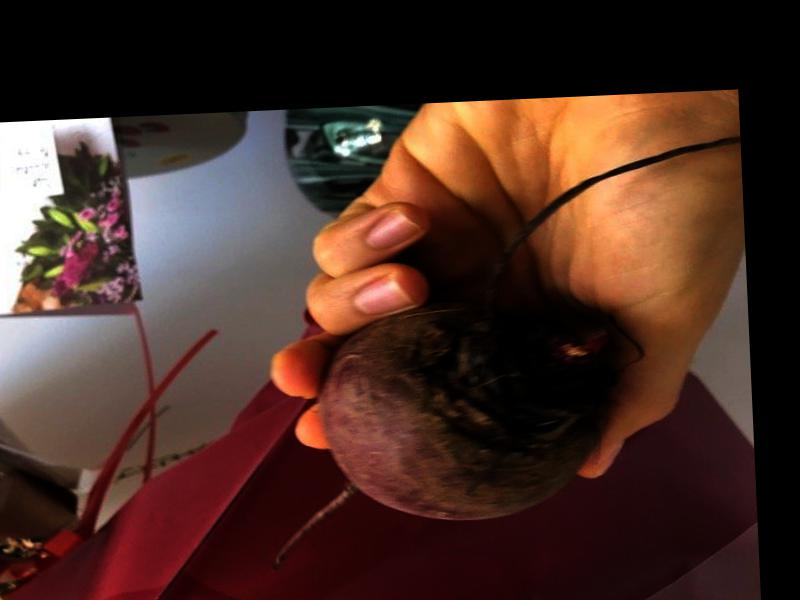Beet: (251, 135, 753, 569)
